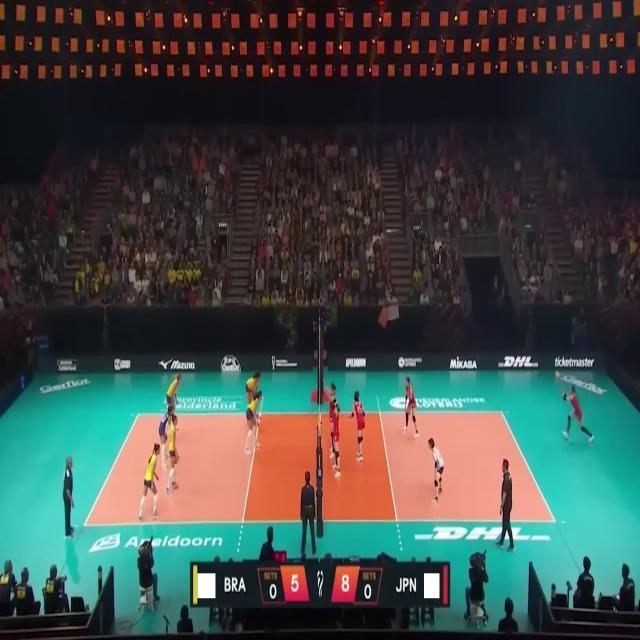volleyball: (553, 371, 562, 381)
